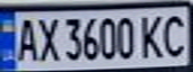0: (115, 14, 139, 61), (97, 14, 118, 61)
3: (60, 14, 81, 62)
6: (78, 15, 100, 62)
A: (12, 15, 39, 63)
C: (157, 10, 190, 58)
K: (136, 11, 166, 60)
X: (33, 14, 60, 63)
